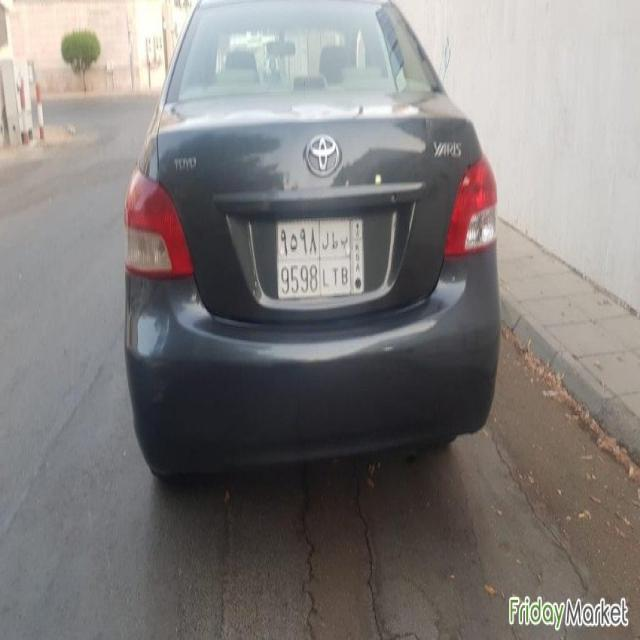license_plate: (275, 214, 365, 301)
